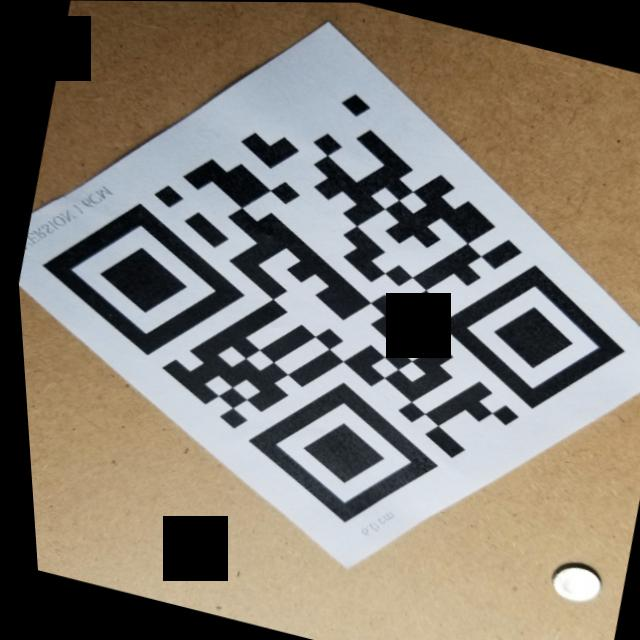QR_CODE: (0, 3, 640, 599)
